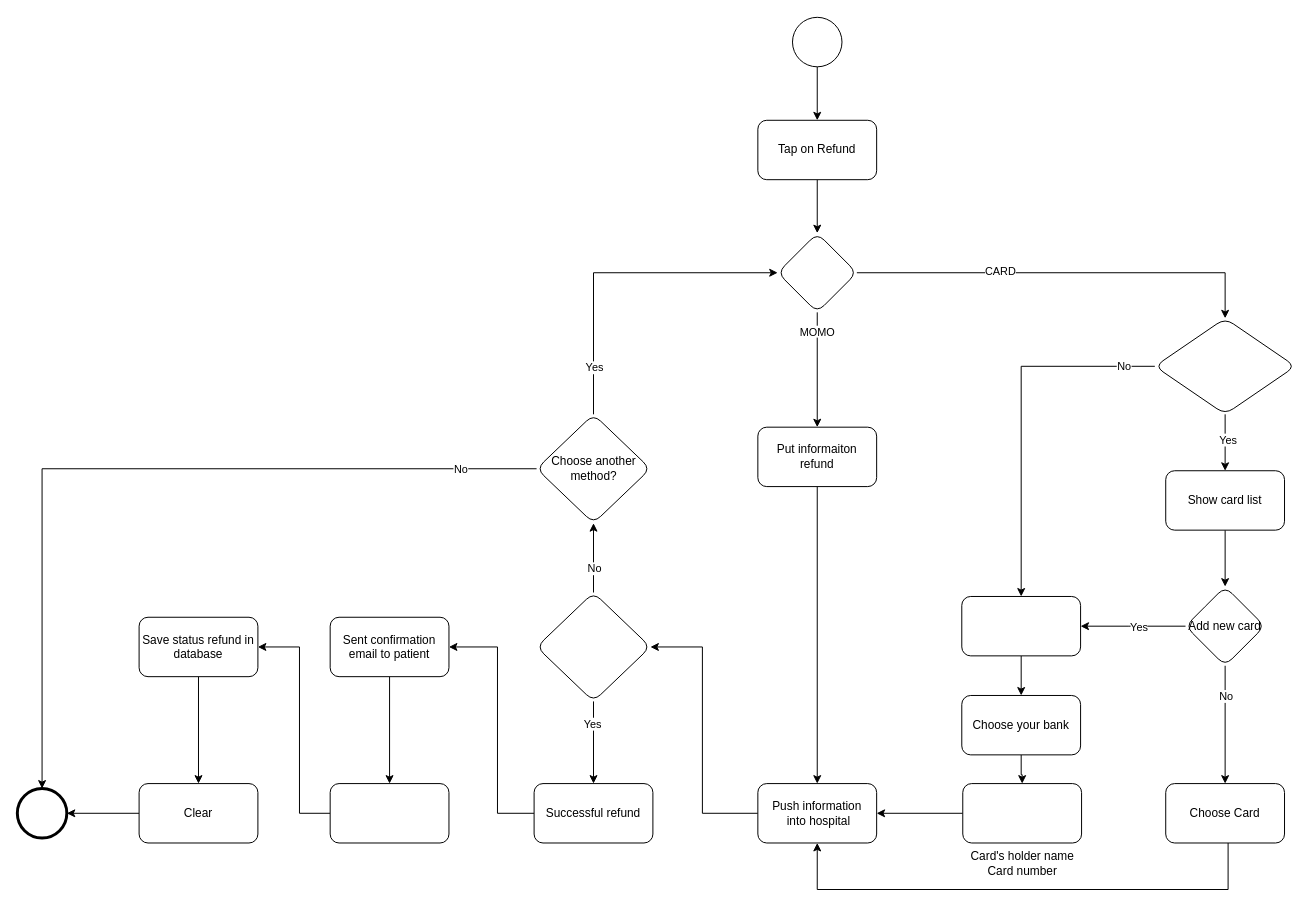
Some shapes in this 1313 by 915 pixel diagram are drawn without their labels. Here are the shapes that lost their labels. From the top down, the centre of each, then its label:
the point at 817,272: Choose Refund Method
the point at 1224,365: Ever made any transaction by card?
the point at 1021,625: Show banks
the point at 593,646: Confirm refund information?
the point at 389,813: Refund done
the point at 1022,813: Put information card
